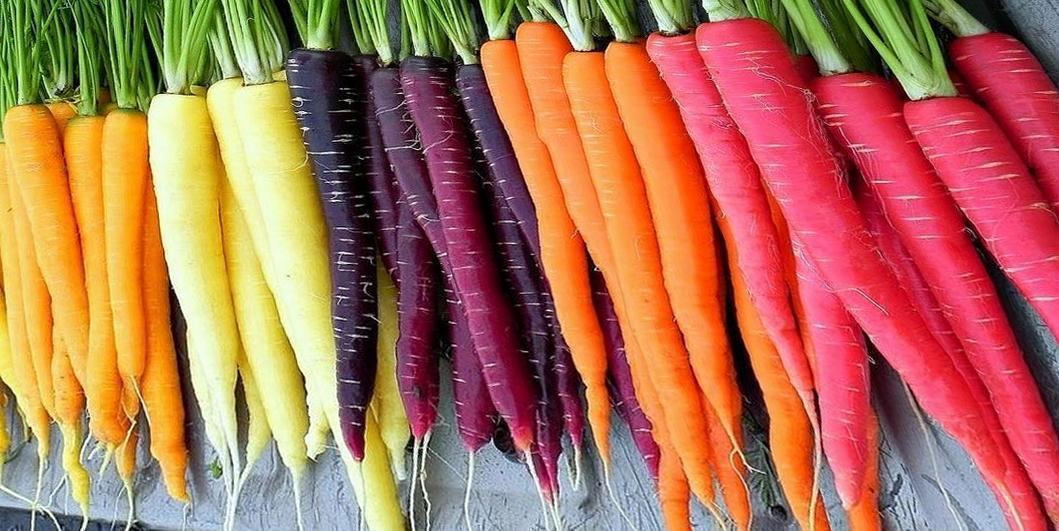carrot: (554, 85, 668, 425), (517, 7, 643, 230)
